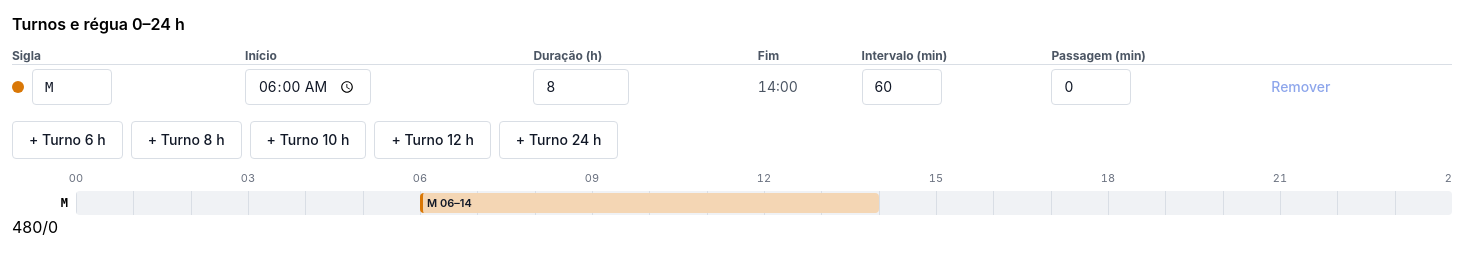
Test: Sobreposição de passagem (v3.6) › construtor: passagem em minutos por turno estende o turno (06–14 + 20 → 06–14:20)
This screenshot has width=1464, height=254.
Replace the text in the number field named "Sobreposição de passagem do turno M em minutos" with "20" at (1091, 87), box [1051,69,1131,105]
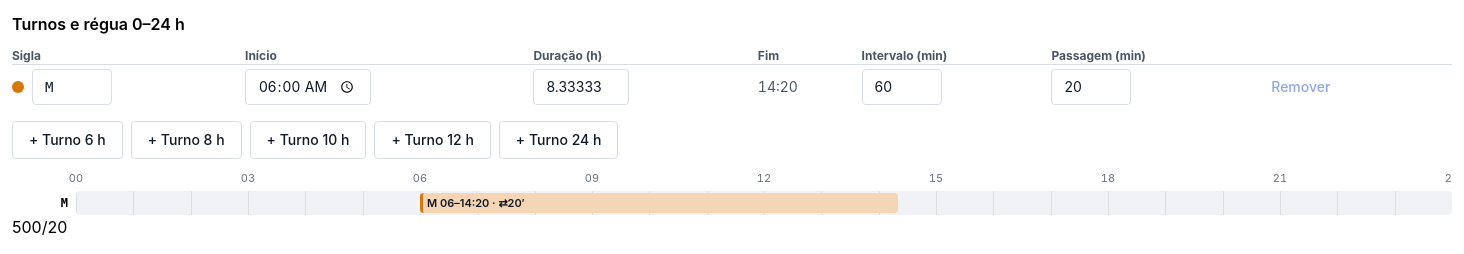
Result: the text with test id "dur" reads "500/20" at [12,217,67,237]
Result: the picture "00 03 06 09 12 15 18 21 24 M M 06–14:20 · ⇄20′" is shown at [12,171,1452,215]
Replace the text in the number field named "Sobreposição de passagem do turno M em minutos" with "30" at (1091, 87), box [1051,69,1131,105]
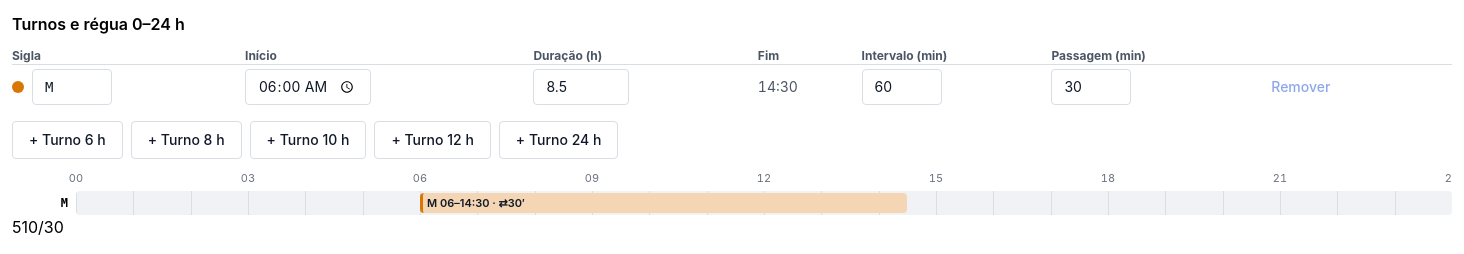
Result: the text with test id "dur" reads "510/30" at [12,217,64,237]
